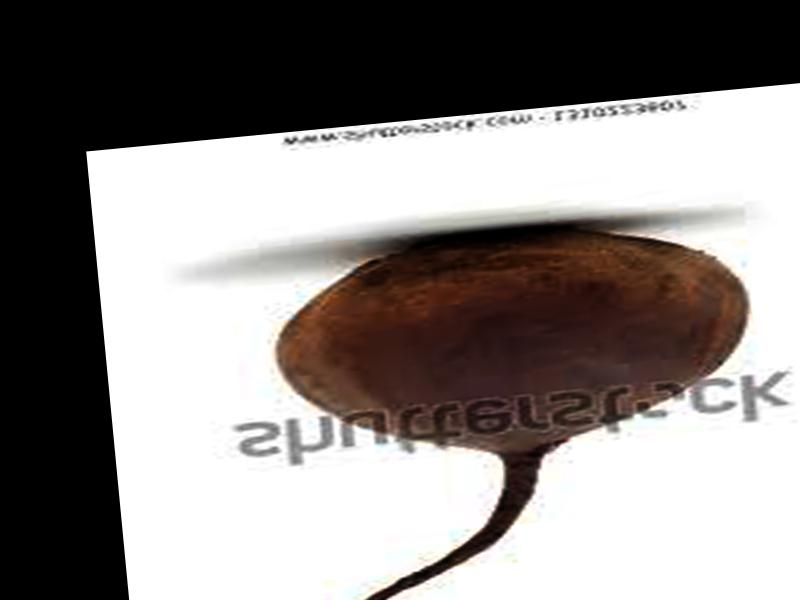Beet: (255, 205, 781, 600)
